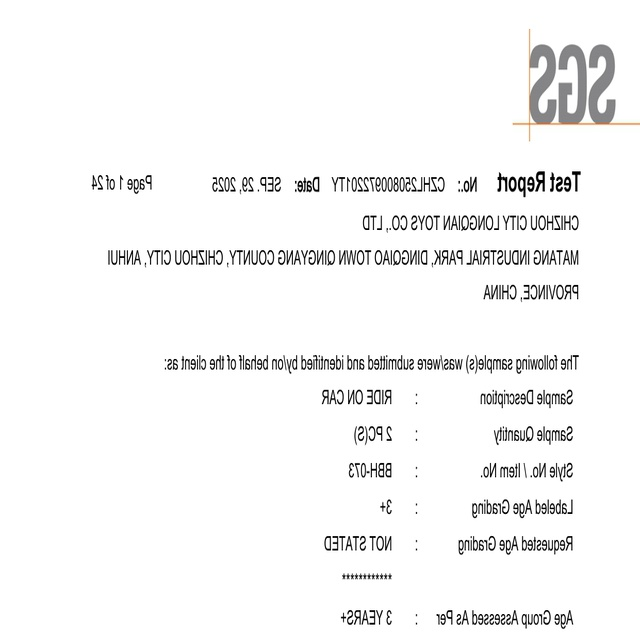sgs: (530, 44, 615, 123)
